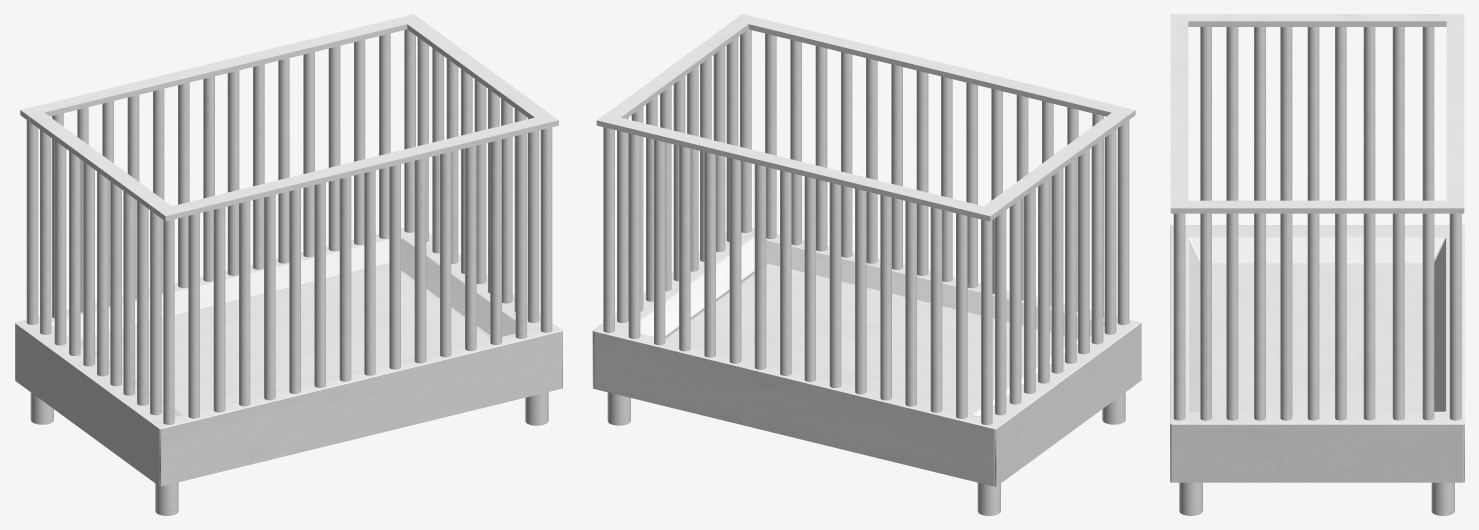
The model's file is Crib.fbx.
3 renders of one model, left to right at view 1: azimuth 30°, elevation 25°; view 2: azimuth 150°, elevation 25°; view 3: azimuth 270°, elevation 25°, orthographic.
Visible parts, largest first — view 1: Crib; view 2: Crib; view 3: Crib.
Part boxes in pixels (x1,y1,x2,y2): Crib: (14, 14, 562, 515); Crib: (592, 14, 1141, 515); Crib: (1170, 14, 1464, 515).
Size of the model in its own units: 160 by 116 by 100.
